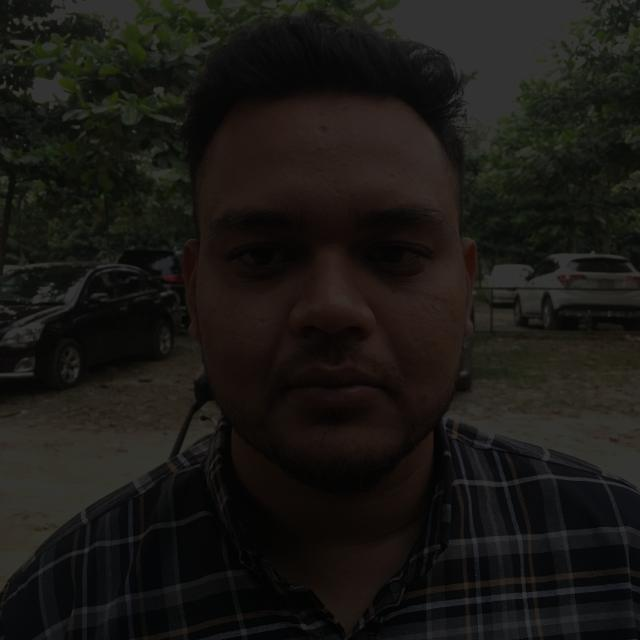Sad: (175, 72, 544, 454)
